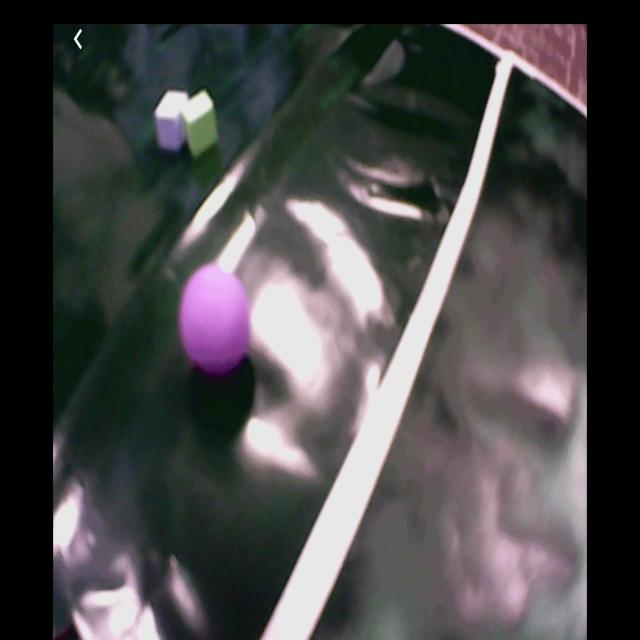ball: (182, 269, 251, 371)
